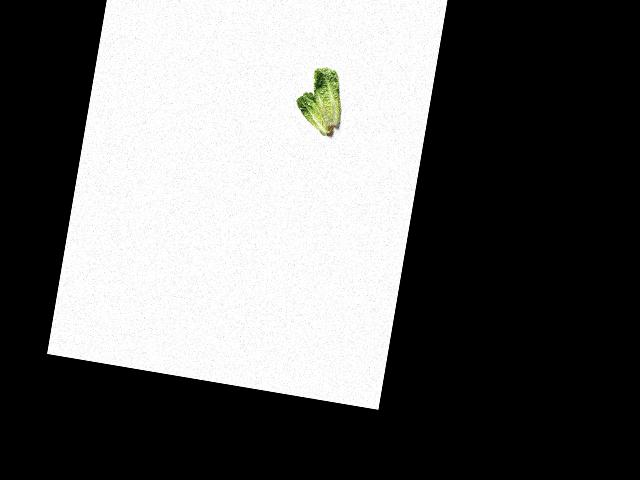lettuce: (290, 90, 340, 140)
